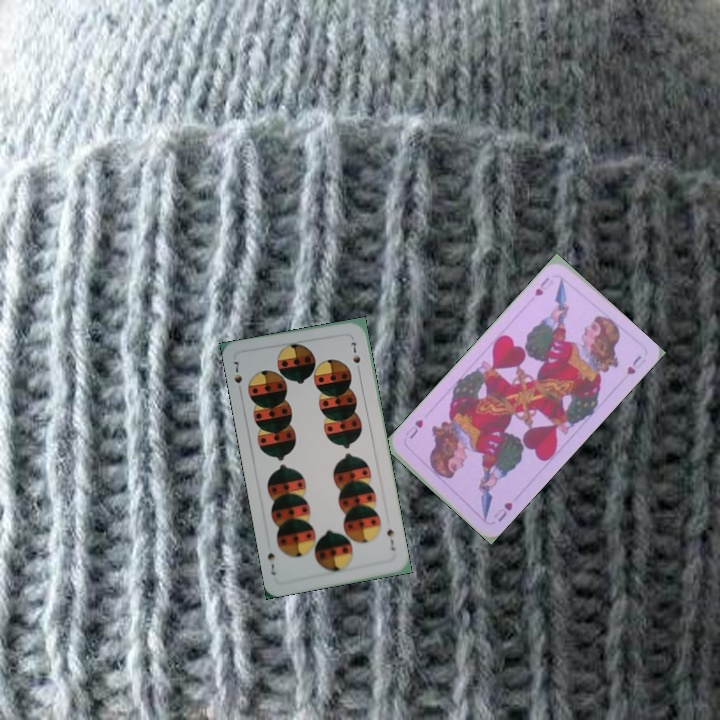HU: (530, 273, 556, 299), (490, 498, 515, 525)
S7: (229, 357, 245, 386), (383, 525, 398, 553)
